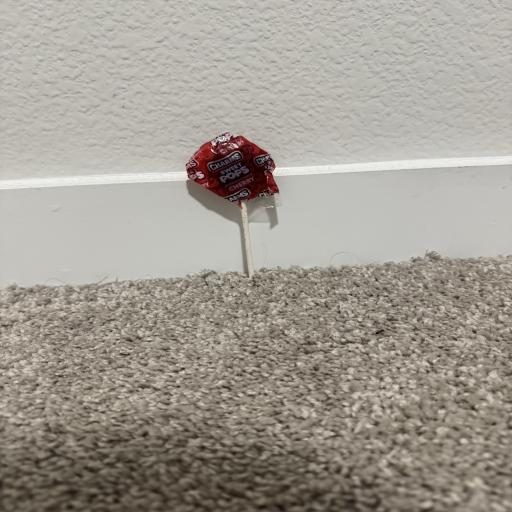chocolate: (187, 133, 280, 207)
